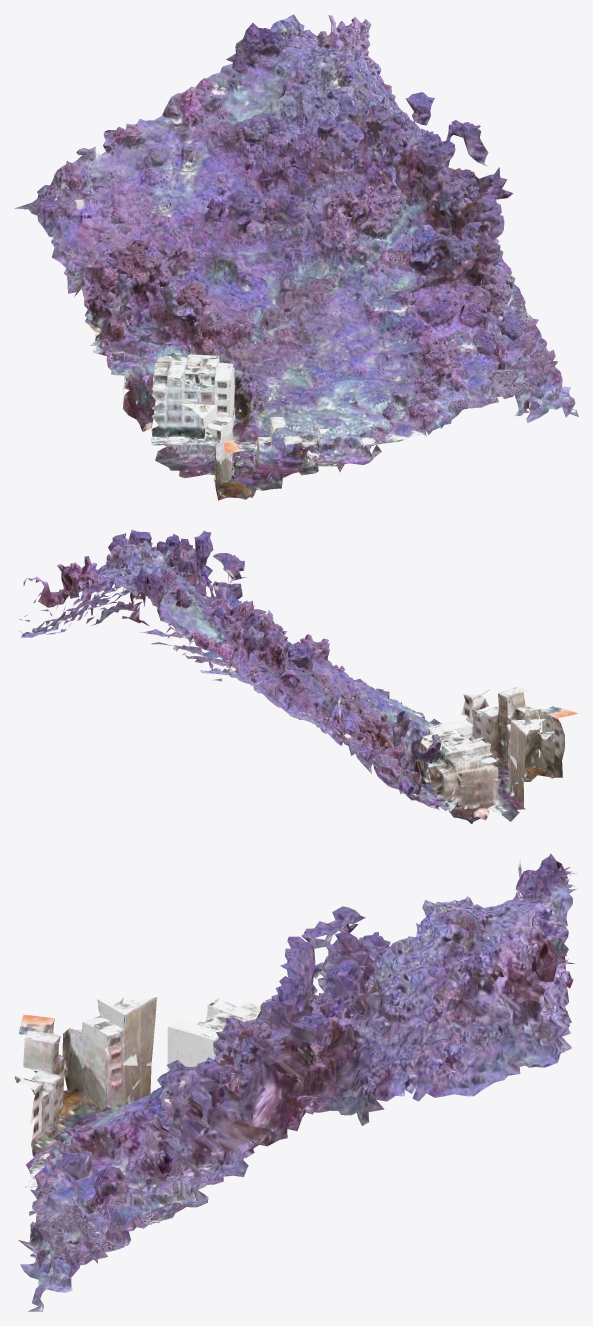
The model's file is Tile_+012_+019_L18_00001.glb.
The picture shows the model from 3 angles, top to bottom: view 1: azimuth 30°, elevation 25°; view 2: azimuth 150°, elevation 25°; view 3: azimuth 270°, elevation 25°; orthographic projection. The views are drawn at different scales.
Visible parts, largest first — view 1: rtc; view 2: rtc; view 3: rtc.
Boxes of the visible parts, x1,y1,x2,y2 form: rtc: (14,14,578,500); rtc: (19,529,578,823); rtc: (14,854,577,1311).
Bounding box in the file's own units: 108 × 81.52 × 108.
1 material, 1 textured.
